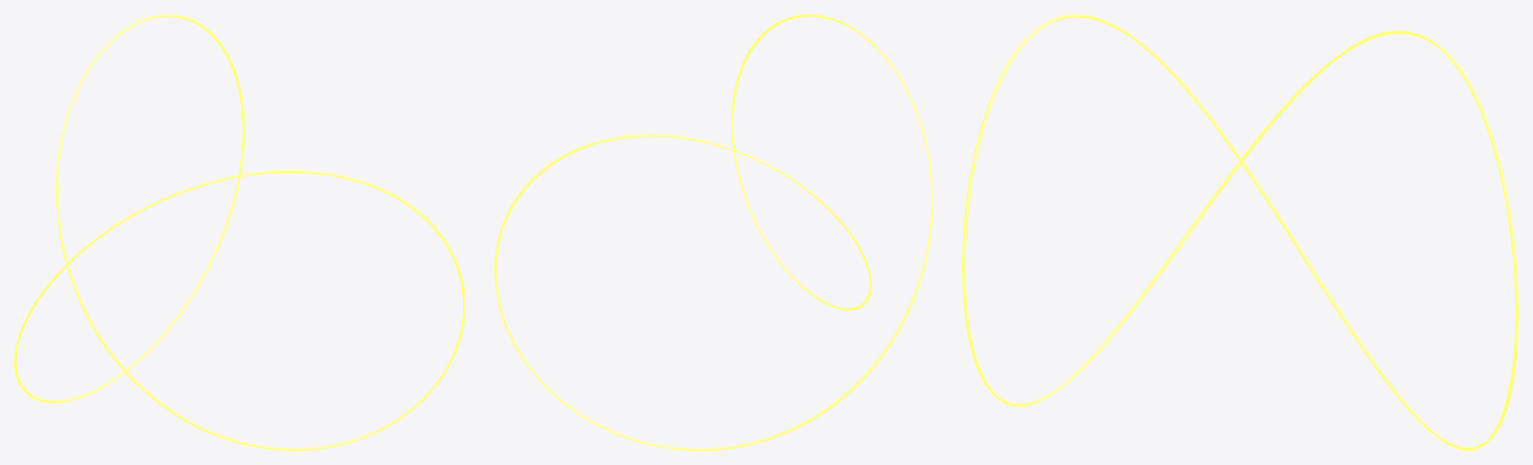
The model's file is orbit_igso.gltf.
The picture shows the model from 3 angles, left to right: view 1: azimuth 30°, elevation 25°; view 2: azimuth 150°, elevation 25°; view 3: azimuth 270°, elevation 25°; orthographic projection. The views are drawn at different scales.
Visible parts, largest first — view 1: OrbitTrajectoryNode; view 2: OrbitTrajectoryNode; view 3: OrbitTrajectoryNode.
Part boxes in pixels (bbox=[...]): OrbitTrajectoryNode: bbox=[14, 14, 465, 450]; OrbitTrajectoryNode: bbox=[494, 14, 933, 450]; OrbitTrajectoryNode: bbox=[962, 14, 1518, 450].
Size of the model in its own units: 29.52 by 28.27 by 35.88.
